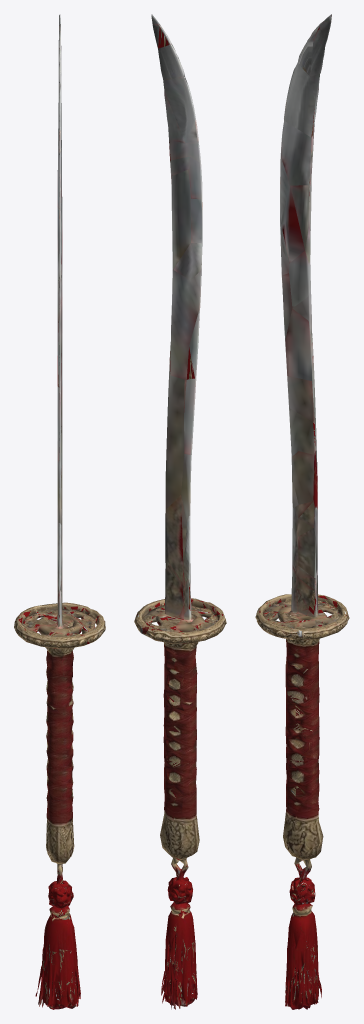
File: weapon_ming_dao_lod1.glb
3 renders of one model, left to right at view 1: azimuth 90°, elevation 25°; view 2: azimuth 150°, elevation 25°; view 3: azimuth 330°, elevation 25°, orthographic. The views are drawn at different scales.
Size of the model in its own units: 0.0884 by 1.05 by 0.0894.
Materials: 1 (1 with a texture image).
